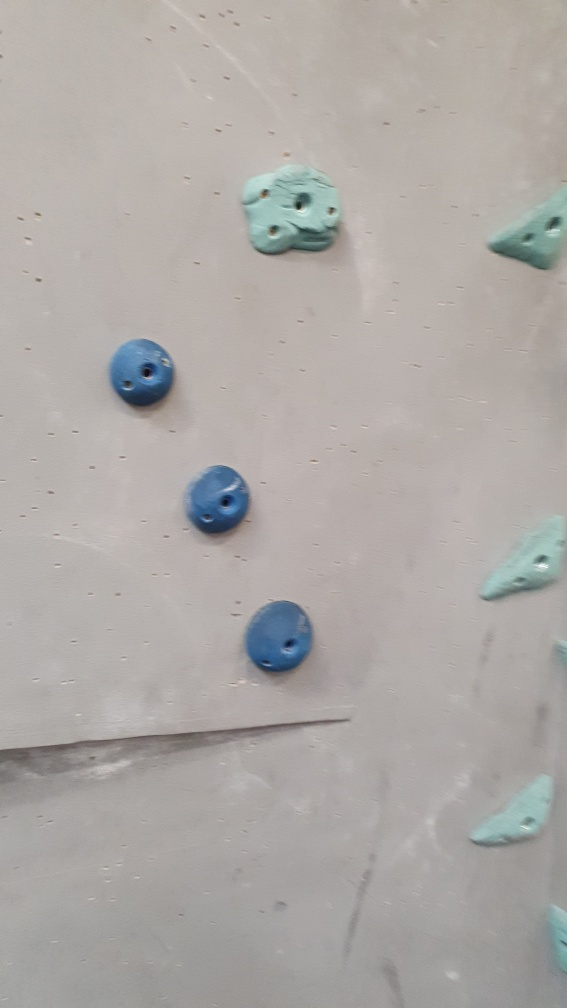Crimp: (486, 172, 567, 283), (479, 504, 567, 598), (470, 772, 555, 847)
Sloper: (243, 593, 322, 686), (180, 456, 258, 540), (106, 336, 184, 411)
